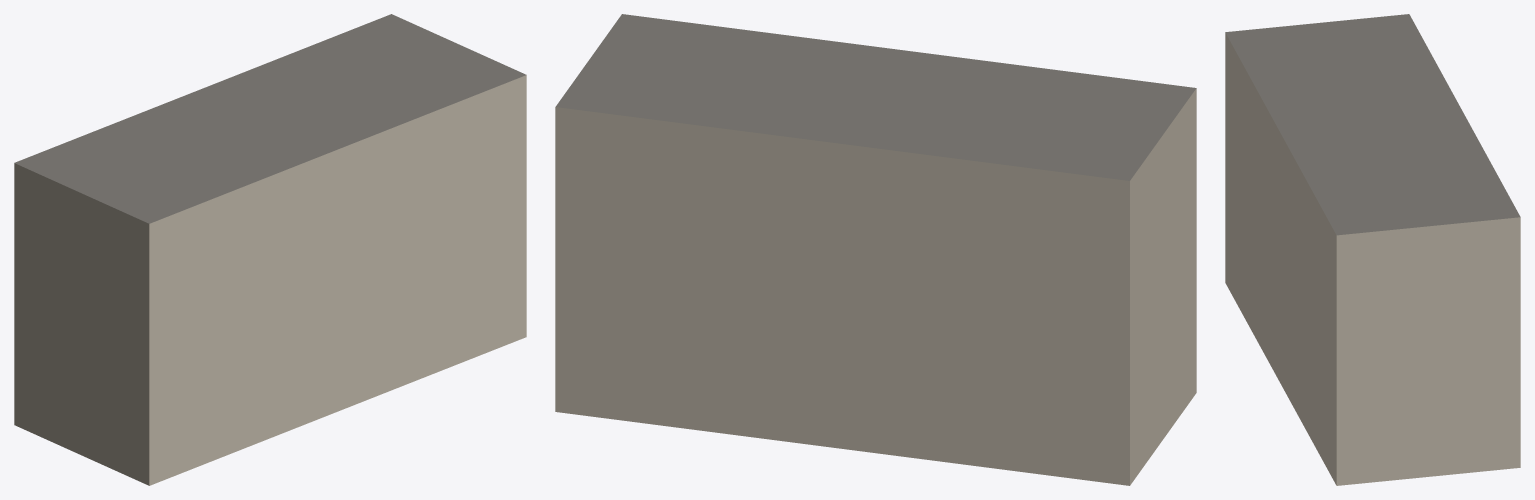
3 renders of one model, left to right at view 1: azimuth 30°, elevation 25°; view 2: azimuth 150°, elevation 25°; view 3: azimuth 270°, elevation 25°, orthographic. The views are drawn at different scales.
Visible parts, largest first — view 1: HP-w859447888; view 2: HP-w859447888; view 3: HP-w859447888.
Part boxes in pixels (x1,y1,x2,y2): HP-w859447888: (14,14,526,485); HP-w859447888: (555,14,1196,485); HP-w859447888: (1225,14,1520,485).
Size of the model in its own units: 34.11 by 18 by 19.24.
